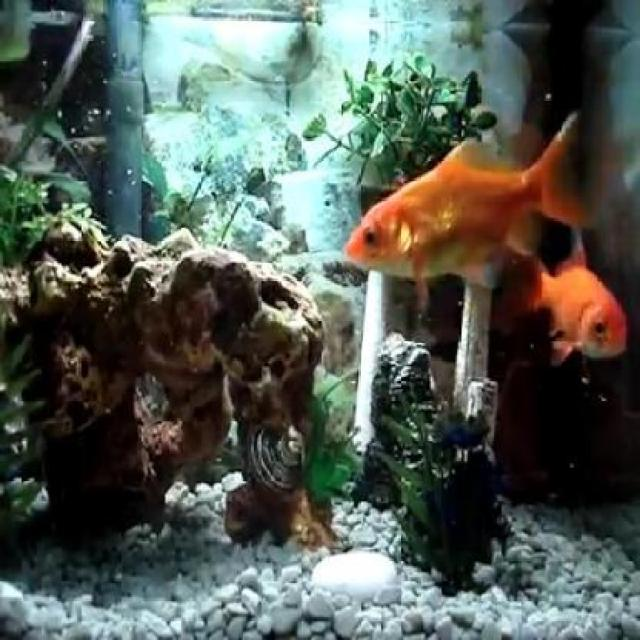GoldFish: (339, 112, 558, 288), (527, 233, 628, 364)
